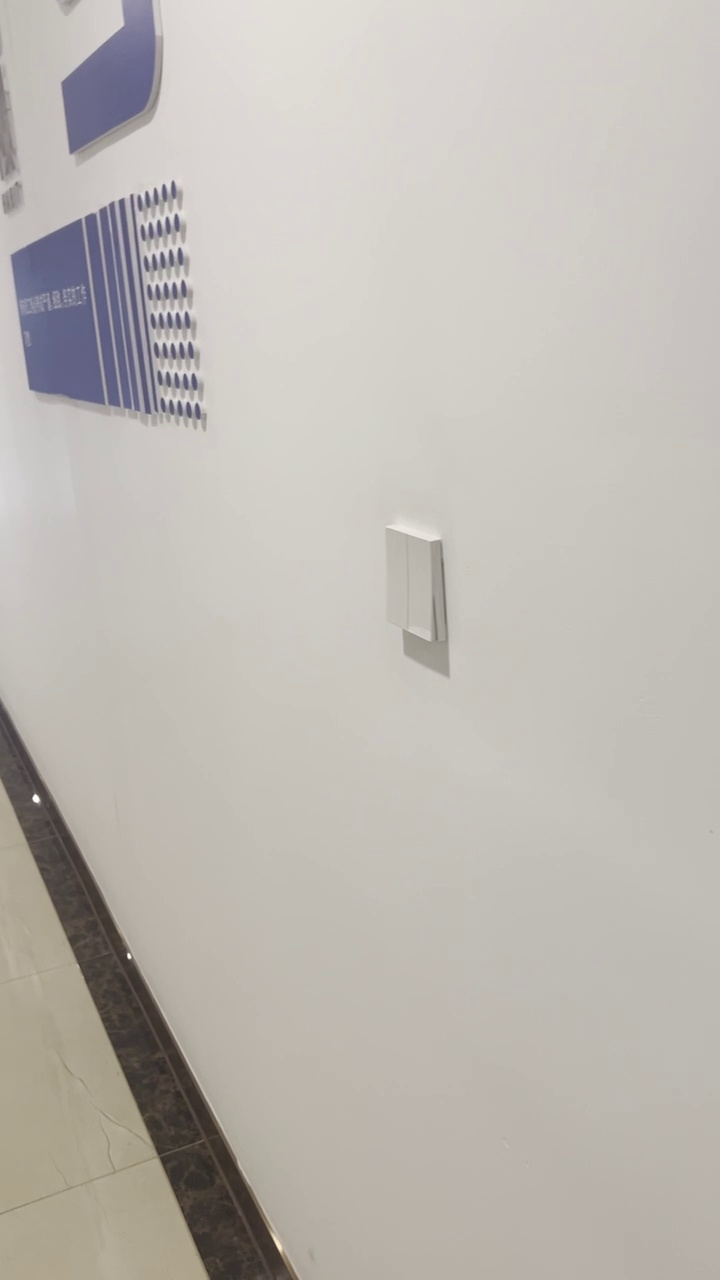button: (379, 519, 453, 645)
